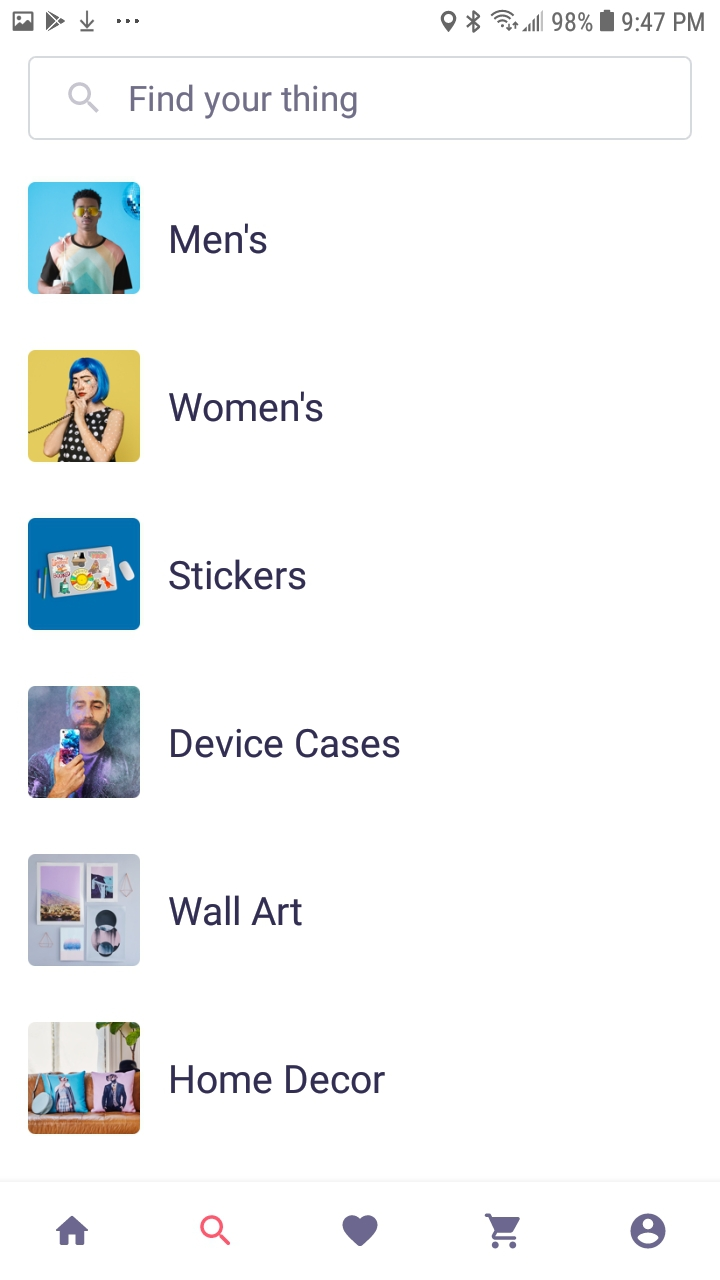EditText: (29, 56, 693, 141)
Icon: (484, 1212, 521, 1249), (630, 1213, 666, 1249), (342, 1214, 379, 1247), (68, 82, 100, 115), (56, 1215, 89, 1245), (200, 1214, 231, 1245)
Image: (28, 182, 141, 295), (28, 518, 141, 631), (28, 686, 141, 799), (28, 854, 141, 967), (29, 350, 141, 463), (29, 1022, 141, 1135)
Text: (130, 85, 358, 120), (171, 728, 401, 759), (171, 1064, 387, 1095), (169, 391, 324, 423), (169, 559, 307, 591), (169, 895, 303, 927), (171, 223, 268, 255)
UpperTaskBar: (1, 1, 720, 35)
